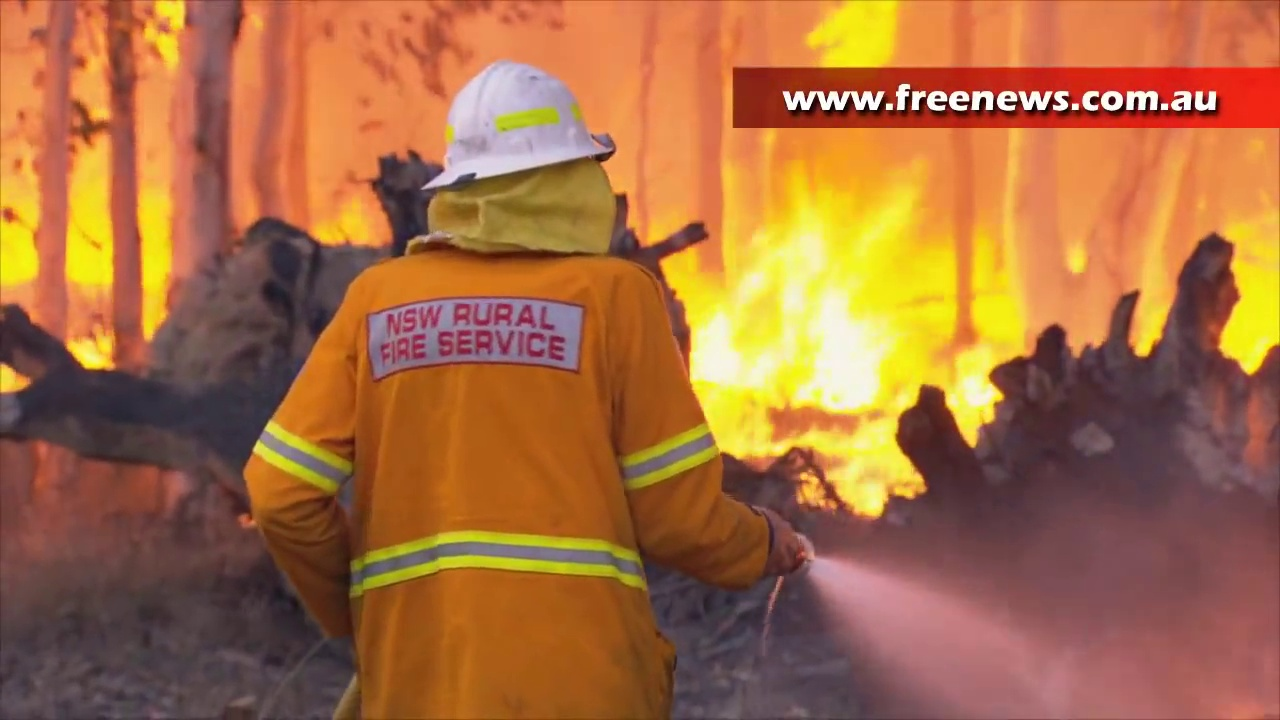fire: (686, 201, 1014, 515)
